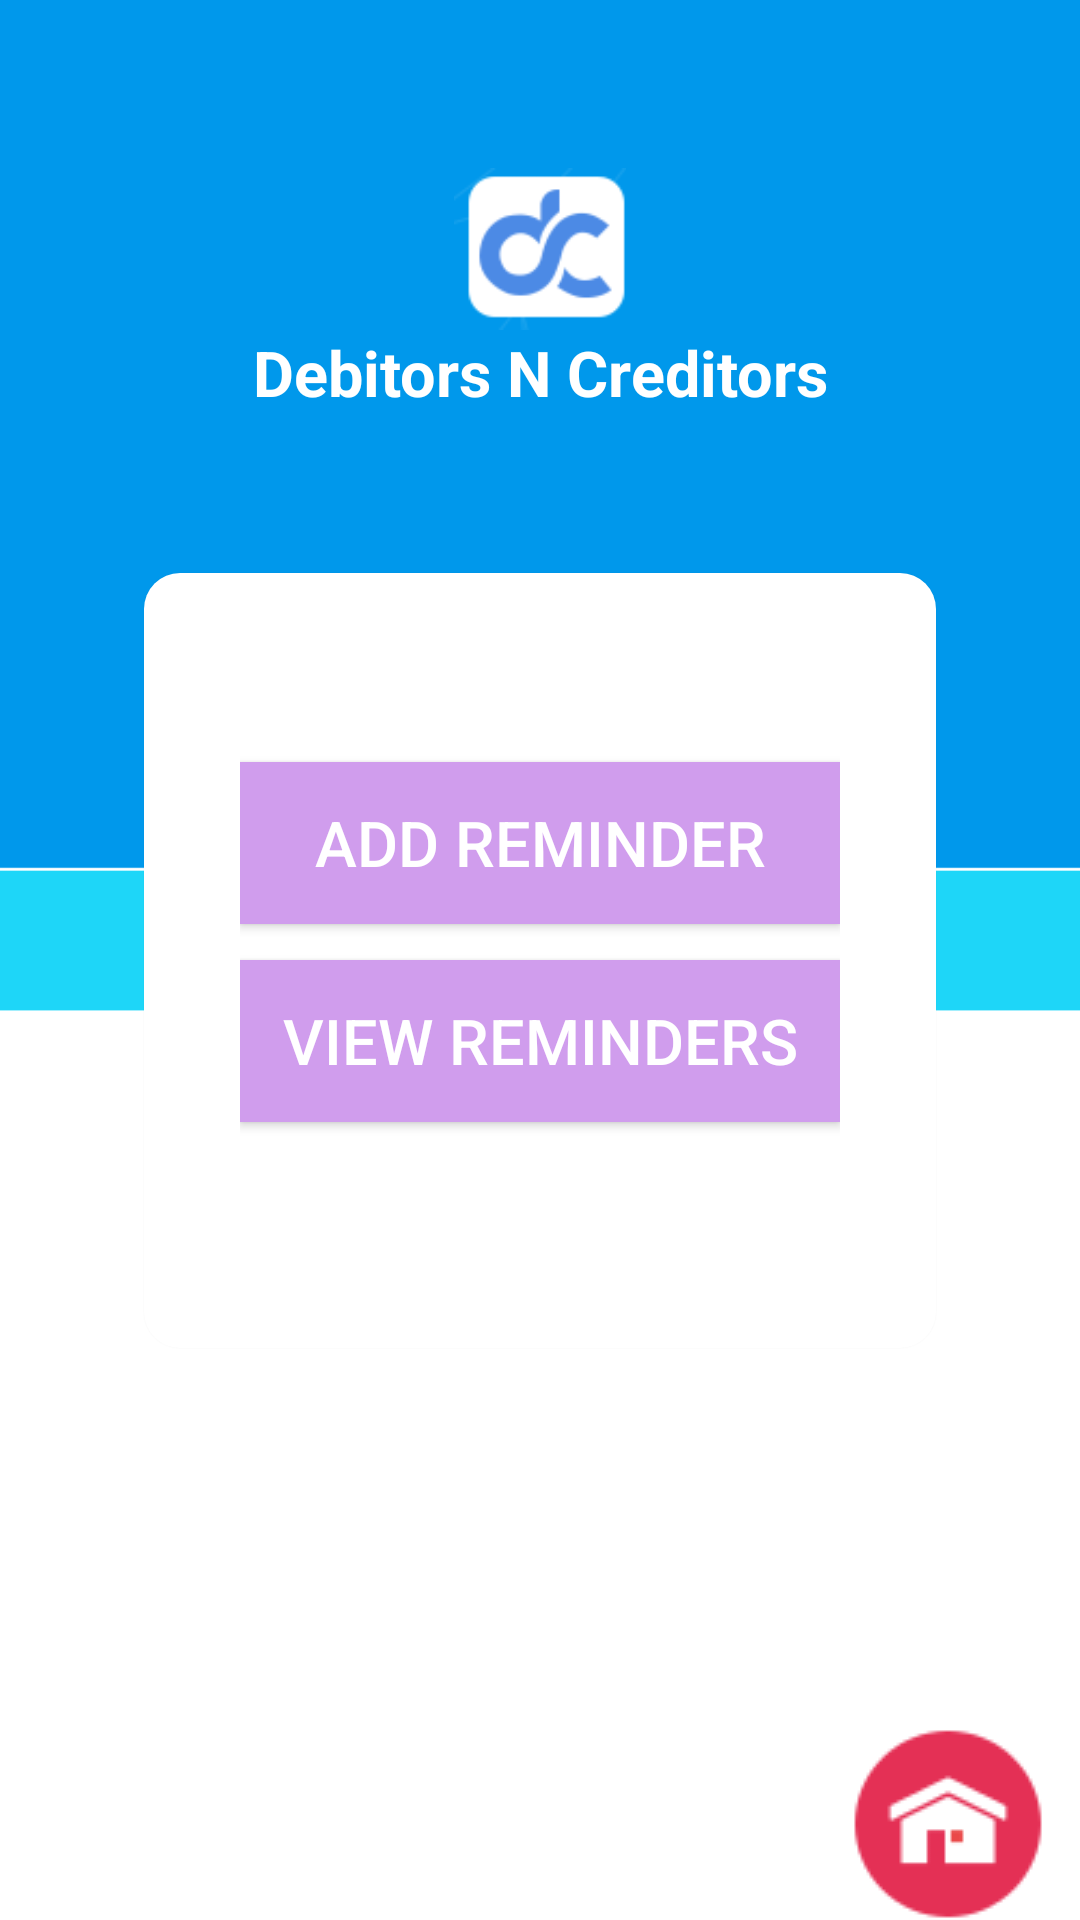

Named icons in this screenshot (1080×1920) and their centers, (x,y):
home: (948,1824)
